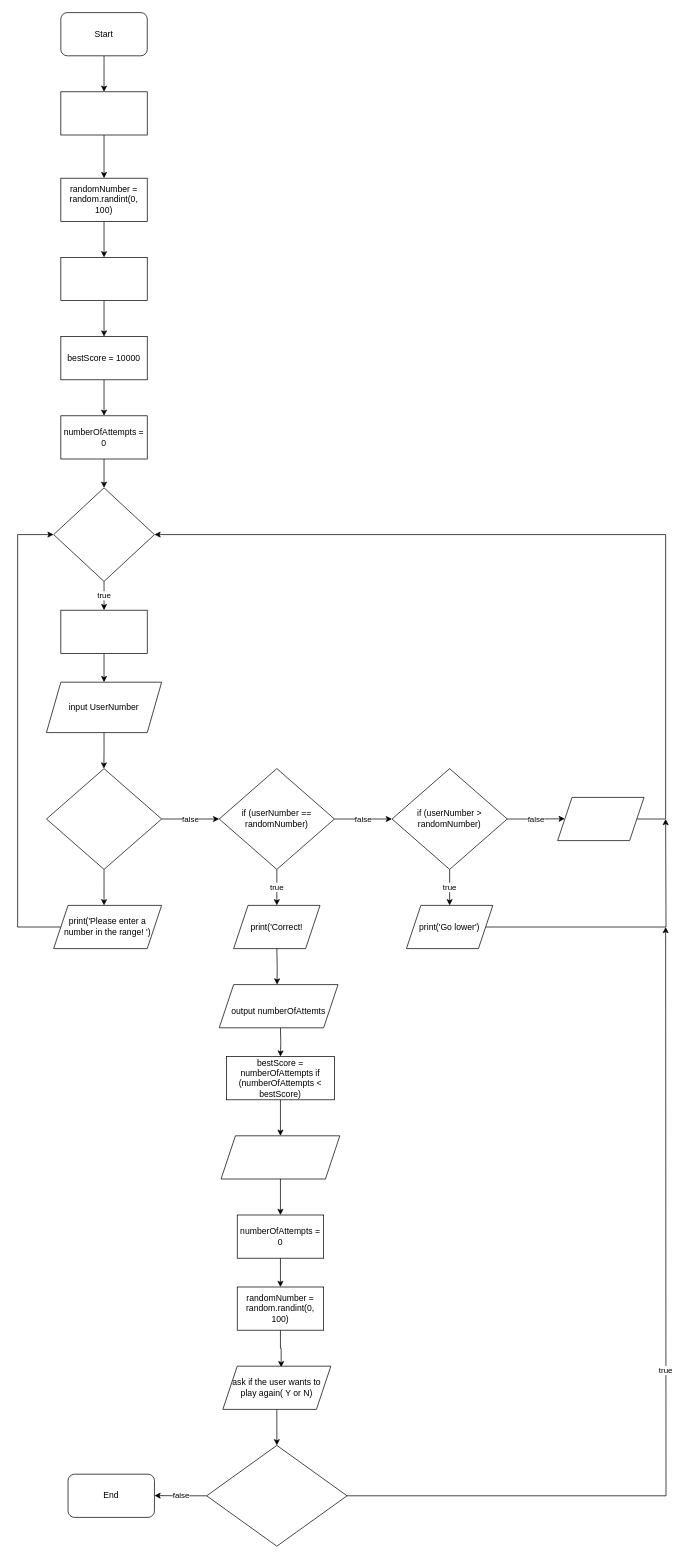
Image size: 685x1559. Some labels were removed from this diagram. Each missing label, with the centre of its shape:
"gameRepeat = 'Y'" goes at (x=103, y=279).
"if ((userNumber > 100) or (userNumber < 0))" goes at (x=104, y=818).
"if Input == Y" goes at (x=276, y=1495).
"import random" goes at (x=103, y=113).
"numberOfAttempts = (numberOfAttempts + 1)" goes at (x=103, y=631).
"output bestScore" goes at (x=280, y=1157).
"print('Go higher')" goes at (x=600, y=819).
"while (gameRepeat == 'Y')" goes at (x=103, y=534).
